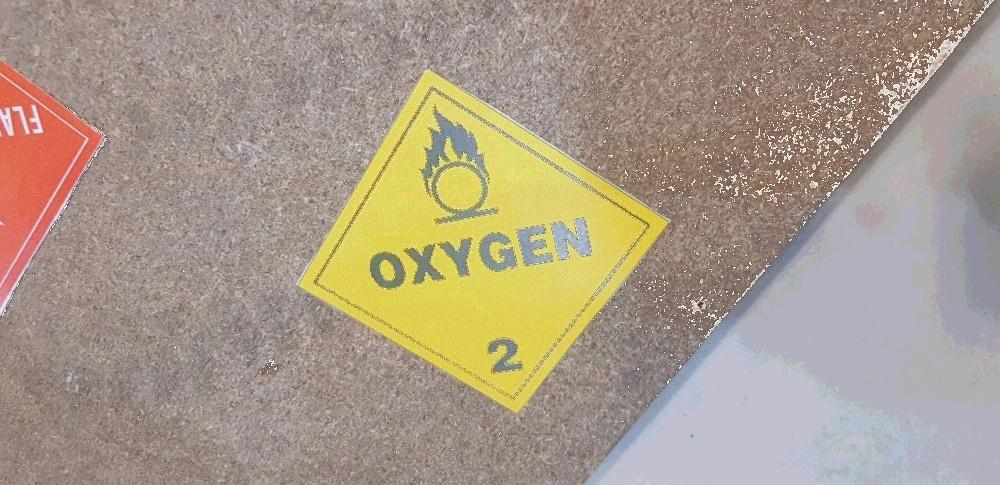flammable: (1, 62, 107, 321)
oxidizer: (297, 65, 671, 410)
